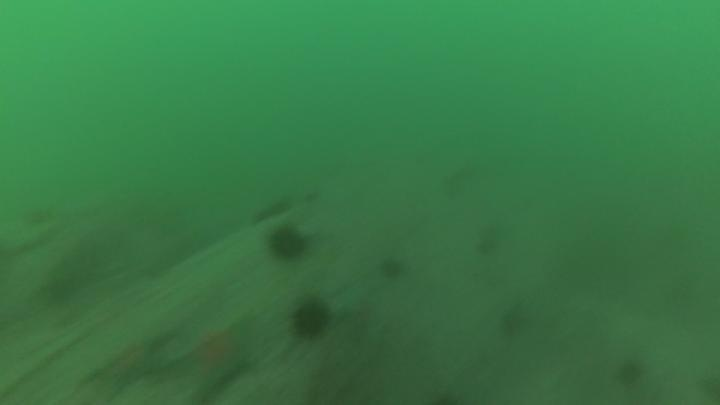echinus: (288, 296, 333, 342), (265, 222, 311, 264), (496, 300, 533, 341), (613, 356, 647, 388), (376, 254, 407, 282), (270, 198, 296, 215), (476, 244, 501, 261), (250, 210, 275, 226), (481, 231, 500, 246)
starfish: (164, 309, 262, 403), (83, 325, 176, 400)
